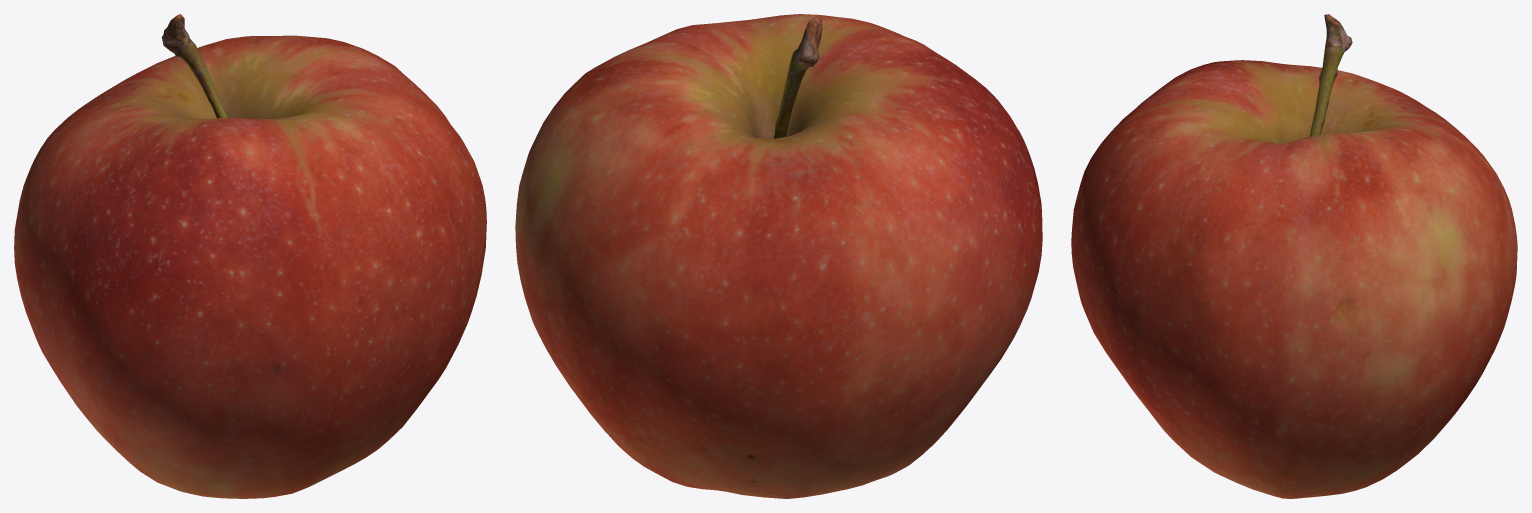
Rendered from apple_medium_2k.obj.
3 views of the same model, side by side, from view 1: azimuth 30°, elevation 25°; view 2: azimuth 150°, elevation 25°; view 3: azimuth 270°, elevation 25° (orthographic). The views are drawn at different scales.
Visible parts, largest first — view 1: apple_medium_2k; view 2: apple_medium_2k; view 3: apple_medium_2k.
Boxes of the visible parts, <box> form: apple_medium_2k: <box>14,14,486,498</box>; apple_medium_2k: <box>515,14,1042,498</box>; apple_medium_2k: <box>1071,14,1517,498</box>.
Size of the model in its own units: 0.1156 by 0.1197 by 0.1151.
Materials: 1 (1 with a texture image).
